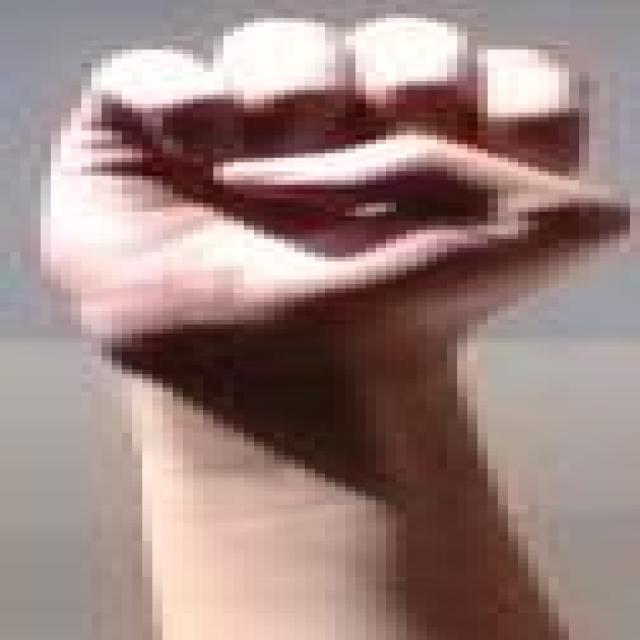E: (13, 2, 640, 378)
